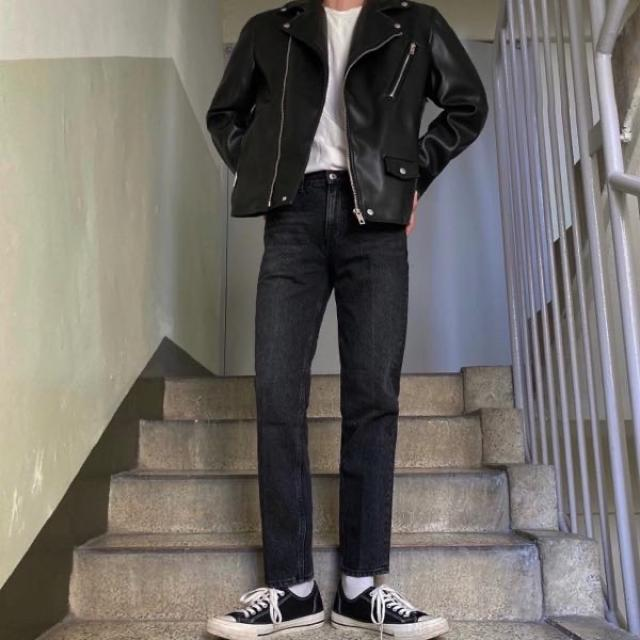denimpants: (254, 168, 409, 578)
jacket: (206, 0, 489, 224)
